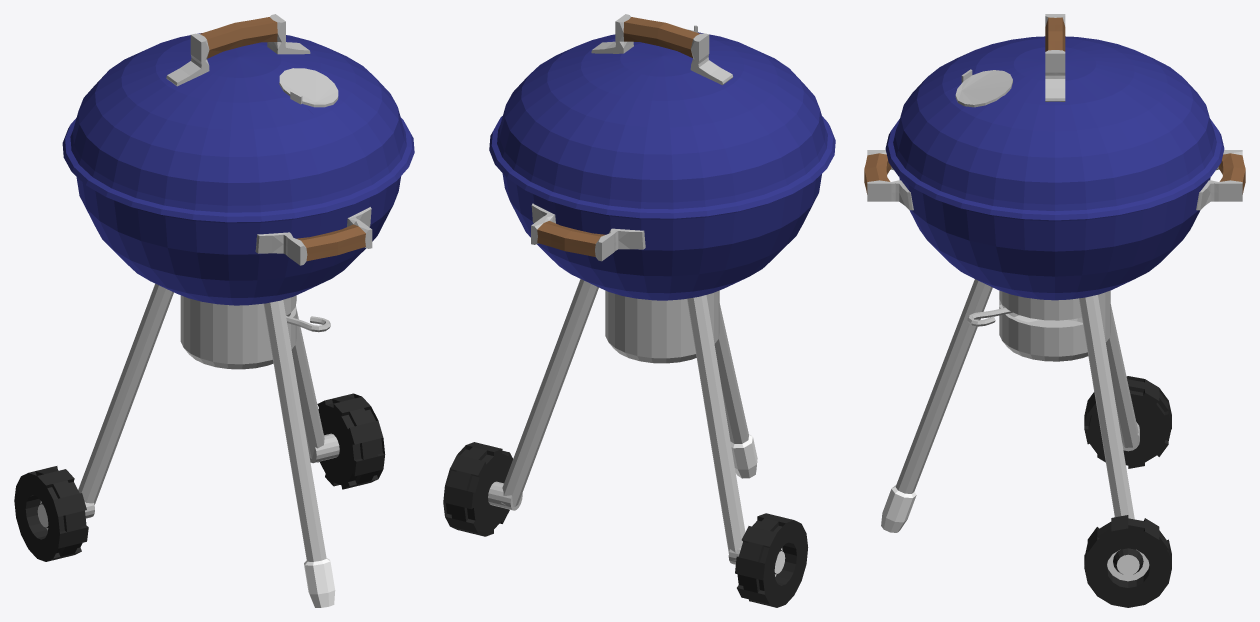
File: grill.obj
The picture shows the model from 3 angles, left to right: view 1: azimuth 30°, elevation 25°; view 2: azimuth 150°, elevation 25°; view 3: azimuth 270°, elevation 25°; orthographic projection. The views are drawn at different scales.
Visible parts, largest first — view 1: Barbeque.lwo; view 2: Barbeque.lwo; view 3: Barbeque.lwo.
Part boxes in pixels (bbox=[...]): Barbeque.lwo: bbox=[14, 14, 414, 607]; Barbeque.lwo: bbox=[443, 14, 835, 607]; Barbeque.lwo: bbox=[864, 14, 1245, 607].
Bounding box in the file's own units: 1.08 × 1.66 × 1.15.
